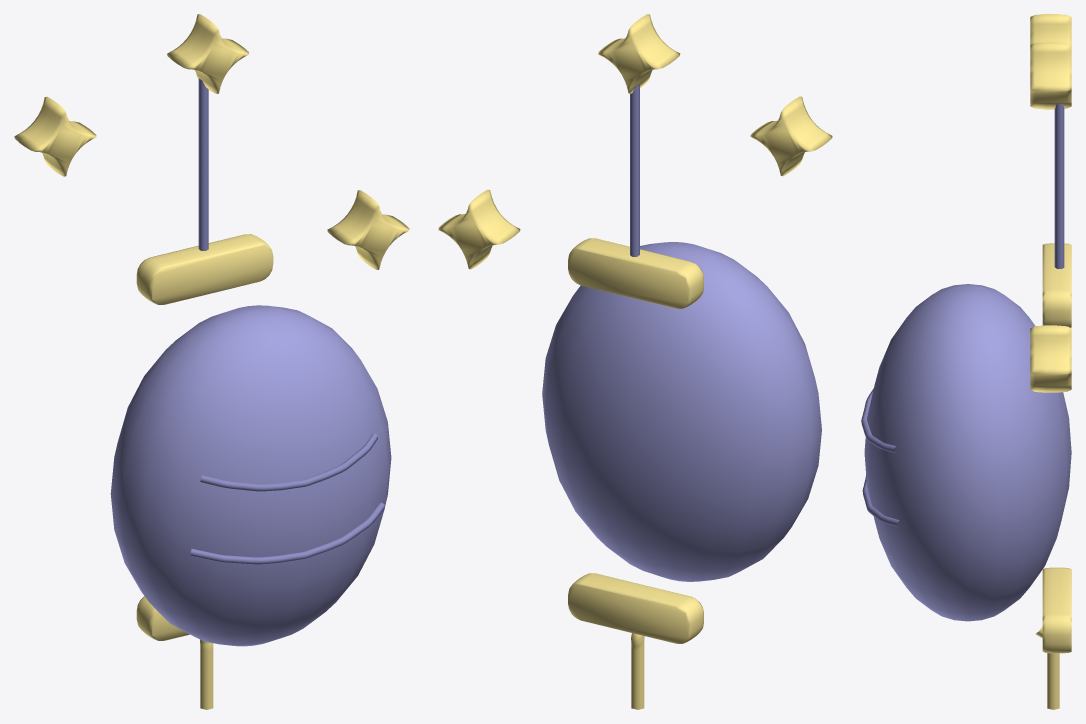
File: decor_2_star.glb
The picture shows the model from 3 angles, left to right: view 1: azimuth 30°, elevation 25°; view 2: azimuth 150°, elevation 25°; view 3: azimuth 270°, elevation 25°; orthographic projection. The views are drawn at different scales.
Parts seen in each view (by area): view 1: decor_2_star; view 2: decor_2_star; view 3: decor_2_star.
Boxes of the visible parts, x1=… form: decor_2_star: x1=14, y1=14, x2=409, y2=709; decor_2_star: x1=438, y1=14, x2=832, y2=709; decor_2_star: x1=861, y1=14, x2=1071, y2=709.
Size of the model in its own units: 8.75 by 15.17 by 4.35.
